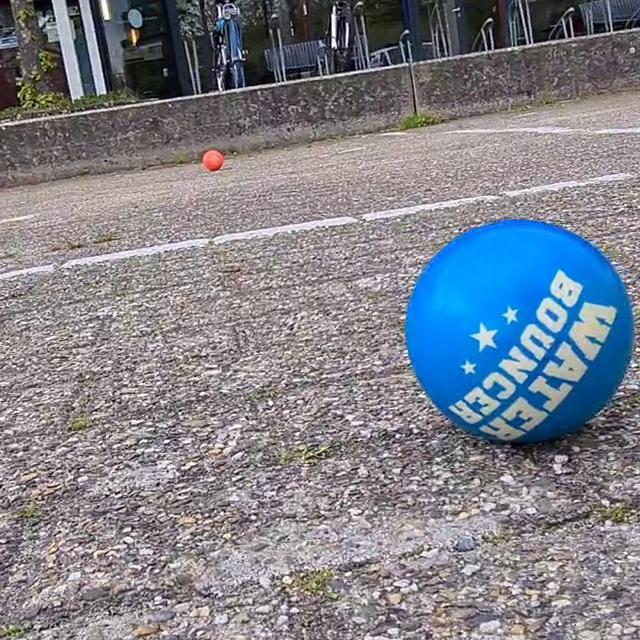ball: (199, 147, 227, 176)
